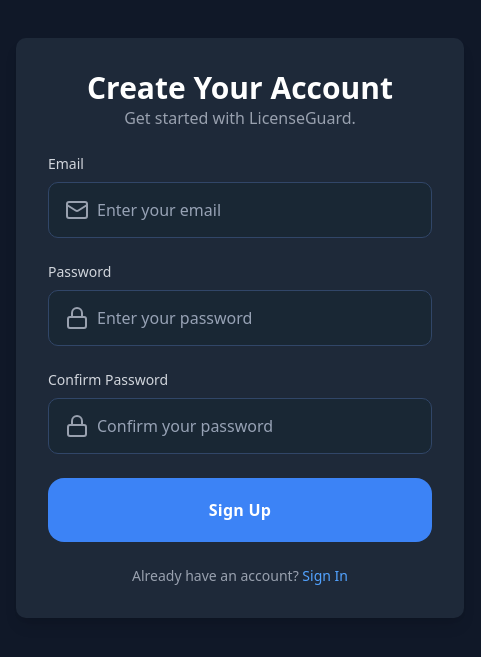
Test case: SignUpPage Component › Empty Fields Validation › should handle empty password field
Type "test@example.com" into the field with placeholder "Enter your email". click: point(260, 210)
box: [89,183,431,237]
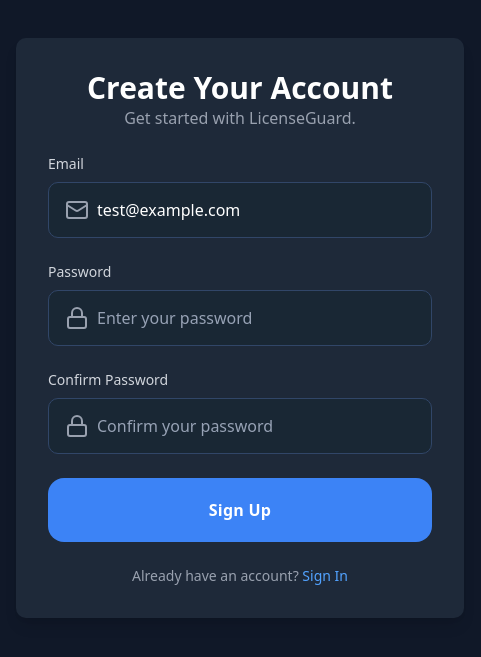
Click the button "Sign Up". click: point(240, 510)
box: [48,478,432,542]
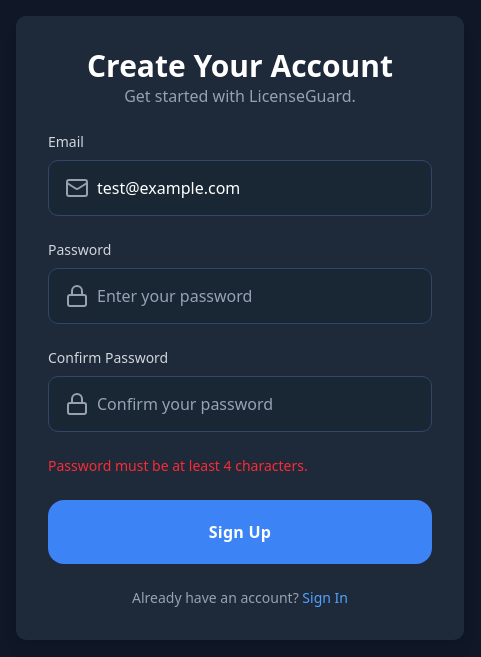
Result: the text "Password must be at least 4 characters." is shown at [48,456,308,475]
